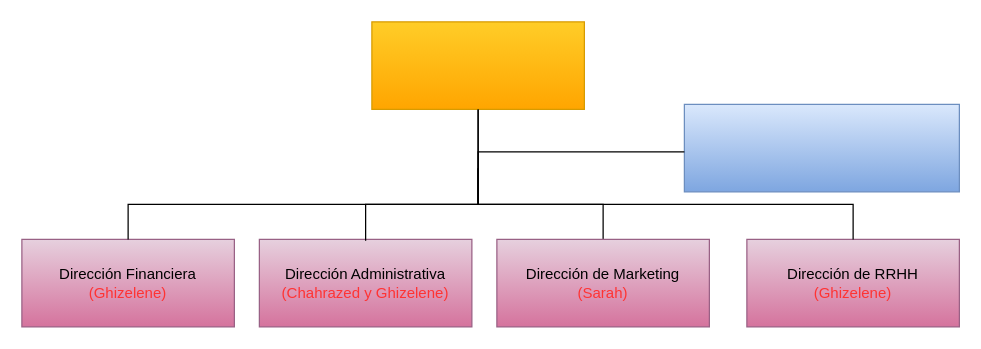
Image size: 981x349. Some labels were removed from this diagram. Here are the shapes that lost their labels. From the top down, the centre of each, then its label:
At [477,65]: "Dirección General (Chahrazed y Ghizelene)".
At [821,147]: "Staff de Apoyo Técnico y Tecnológico (Jevgenijs)".
